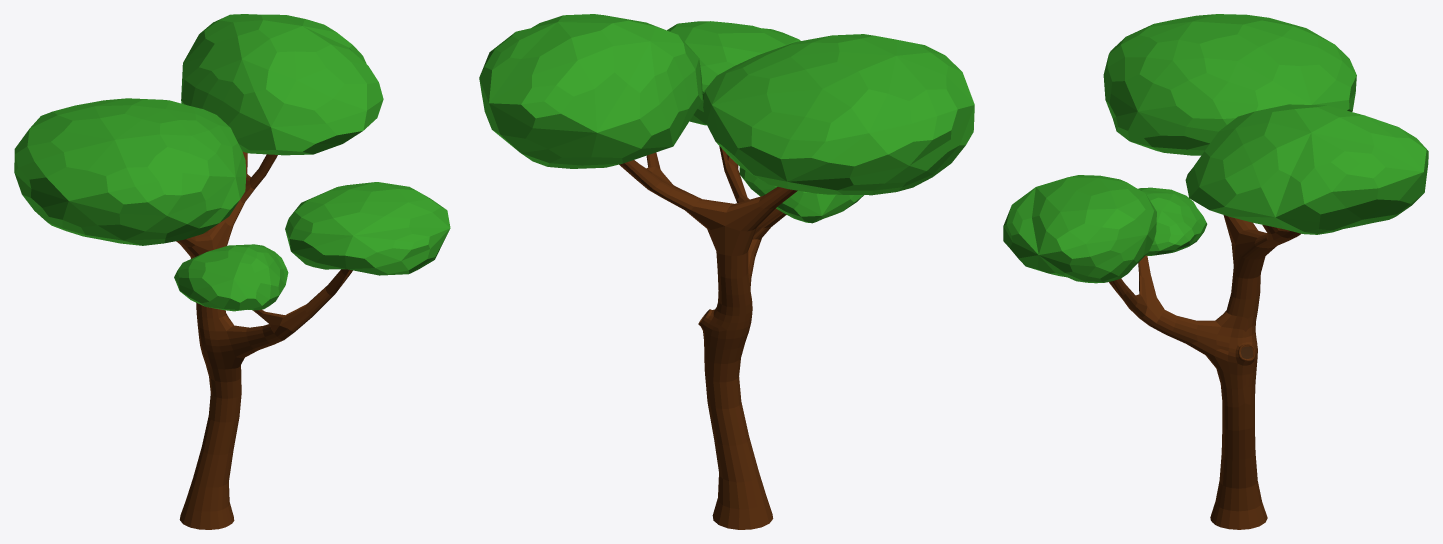
File: baum_highpoly_a01.fbx
3 views of the same model, side by side, from view 1: azimuth 30°, elevation 25°; view 2: azimuth 150°, elevation 25°; view 3: azimuth 270°, elevation 25° (orthographic). The views are drawn at different scales.
Parts seen in each view (by area): view 1: highpoly tree; view 2: highpoly tree; view 3: highpoly tree.
Boxes of the visible parts, box(x1,y1,x2,y2) form: highpoly tree: box(14, 14, 450, 529); highpoly tree: box(479, 14, 974, 529); highpoly tree: box(1003, 14, 1428, 529).
Size of the model in its own units: 2555 by 2908 by 2456.
